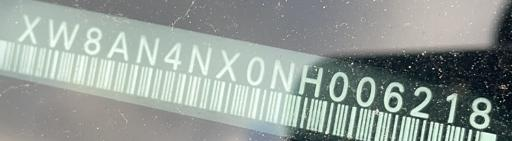letter: (47, 19, 81, 51), (214, 47, 242, 82), (269, 57, 297, 92), (297, 64, 325, 99), (468, 95, 494, 132), (408, 85, 436, 119), (104, 28, 130, 63), (134, 32, 160, 67), (188, 43, 212, 76), (18, 13, 42, 45), (327, 70, 349, 103), (382, 80, 404, 112), (162, 39, 184, 70), (356, 75, 376, 108), (442, 90, 460, 125), (82, 25, 102, 56), (246, 54, 264, 85)
